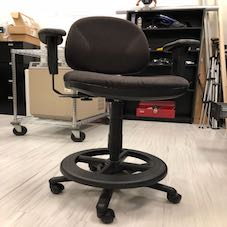chair: (44, 10, 184, 220)
